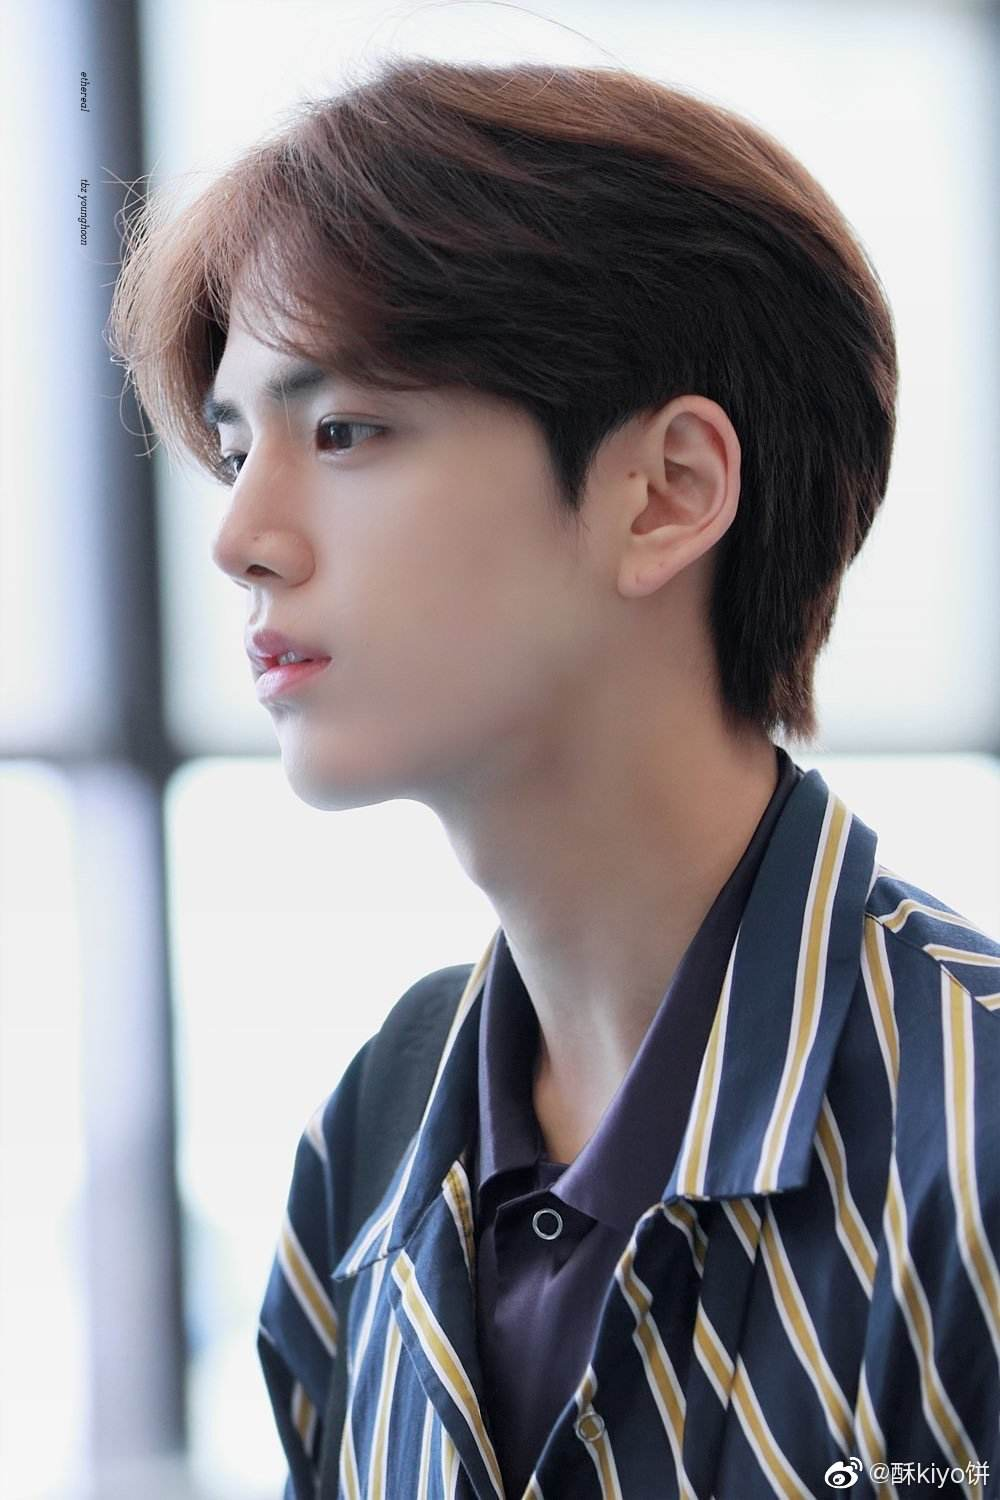person: (107, 57, 894, 1462)
